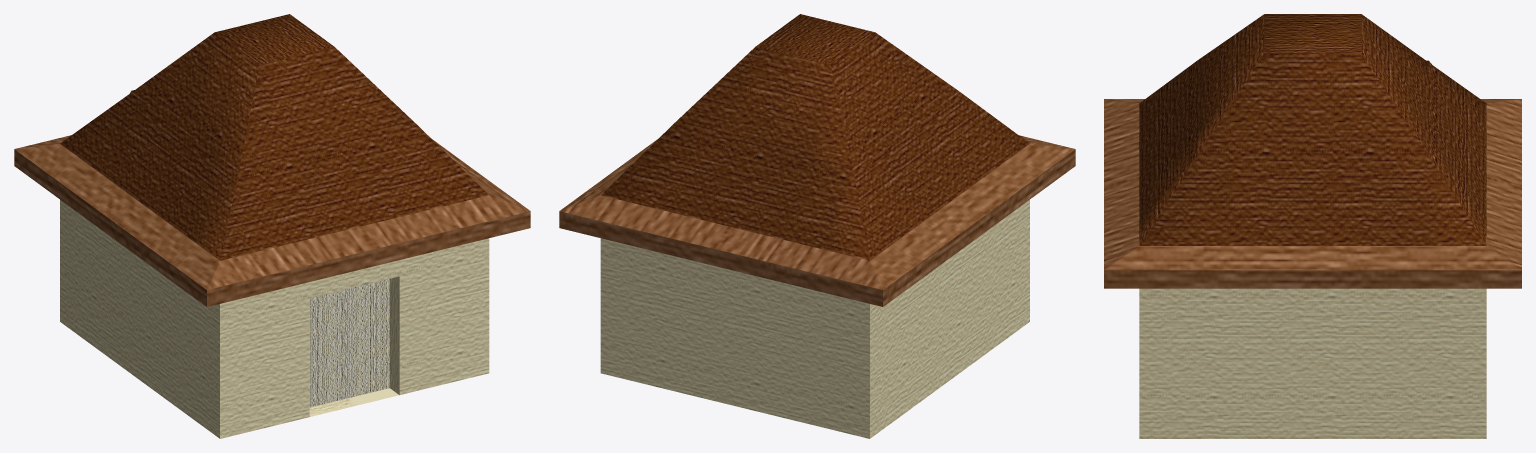
File: Port_House_2_Asset.fbx
The picture shows the model from 3 angles, left to right: view 1: azimuth 30°, elevation 25°; view 2: azimuth 150°, elevation 25°; view 3: azimuth 270°, elevation 25°; orthographic projection. The views are drawn at different scales.
Parts seen in each view (by area): view 1: Box001; view 2: Box001; view 3: Box001.
Part boxes in pixels (left/top/right/bottom): Box001: left=14, top=14, right=530, bottom=438; Box001: left=559, top=14, right=1075, bottom=438; Box001: left=1104, top=14, right=1521, bottom=438.
Size of the model in its own units: 166 by 152 by 172.
1 material, 1 textured.
